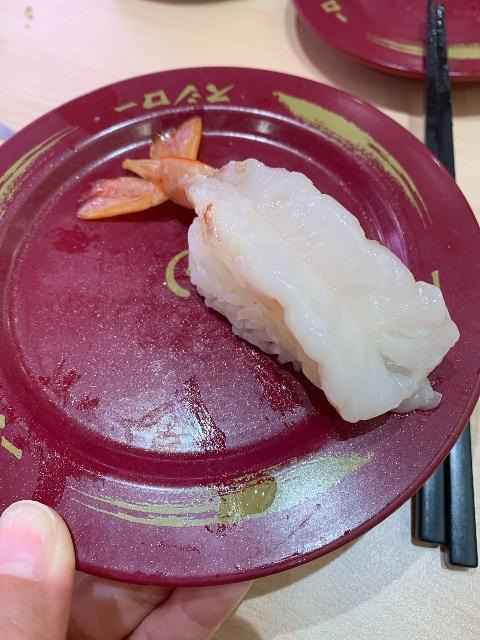janred: (0, 66, 480, 583), (282, 0, 480, 98)
